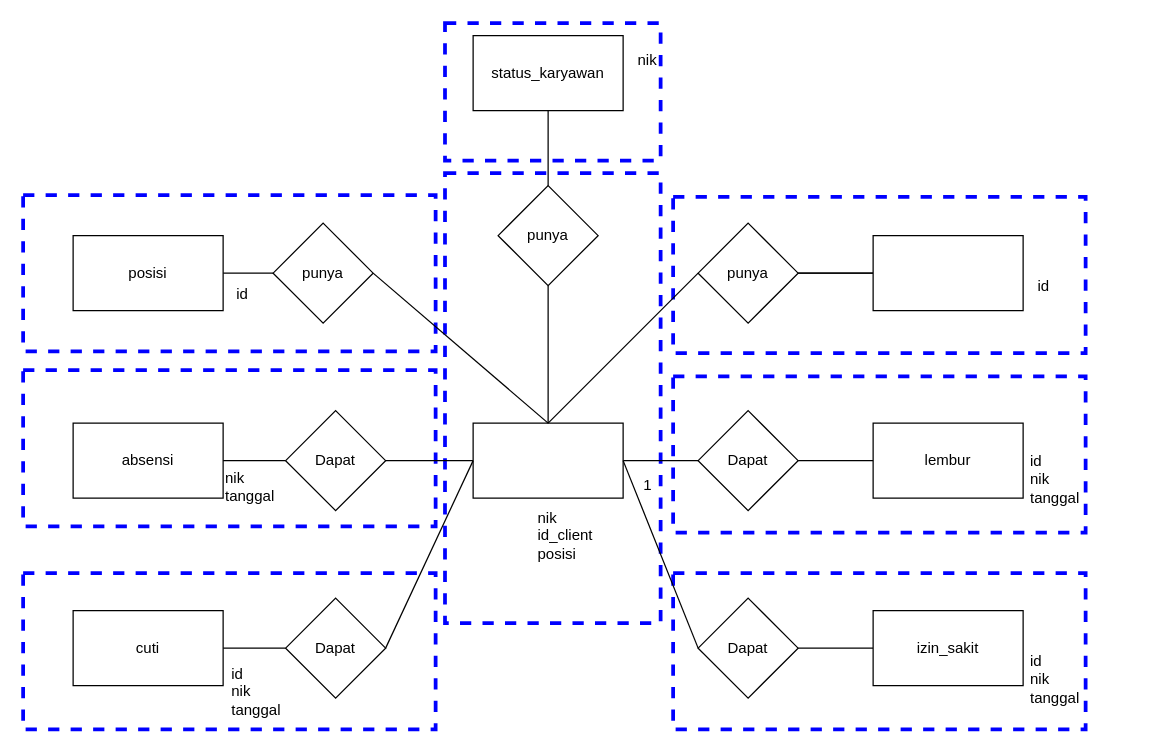
The diagram is 1163 pixels wide and 753 high, and some of its shapes have lost their labels. The shapes that lost their labels are listed below. From the top down, each one's centre as x and y in pixels, then its label:
the point at 947,272: klien
the point at 547,460: karyawan
